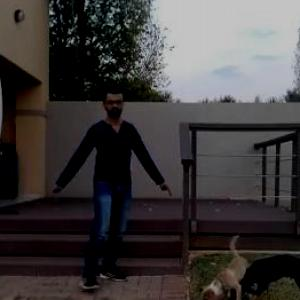land: (47, 91, 171, 293)
